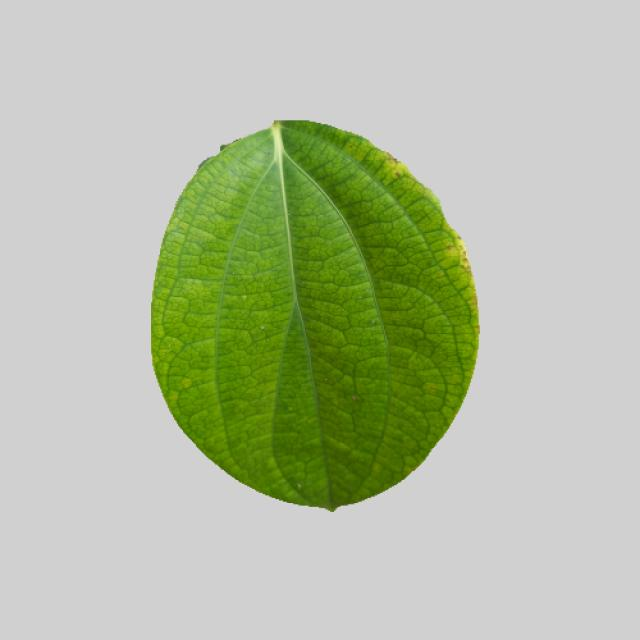healthy: (141, 112, 484, 521)
